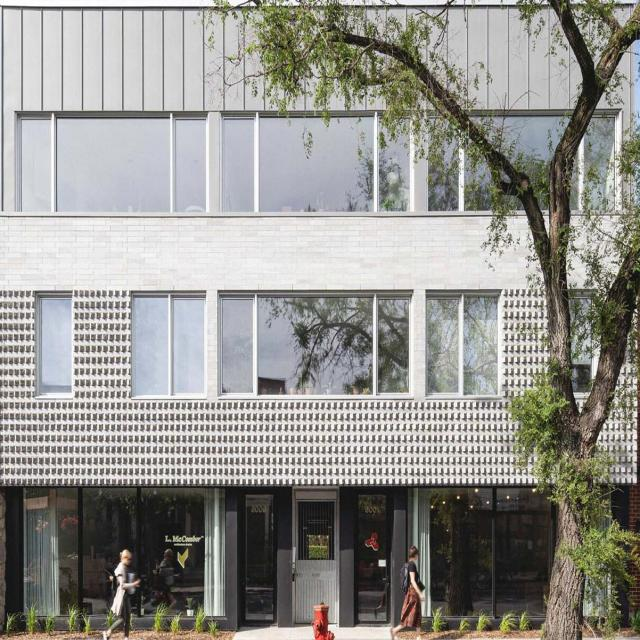door: (291, 486, 340, 624), (354, 489, 391, 626), (241, 491, 275, 623)
plant: (192, 0, 639, 639)
wall: (0, 1, 639, 633)
windows: (22, 485, 228, 617), (218, 293, 408, 397), (19, 112, 209, 215), (220, 112, 410, 215), (431, 112, 617, 212), (430, 487, 553, 614), (130, 292, 206, 396), (424, 293, 497, 395), (37, 290, 74, 392)
